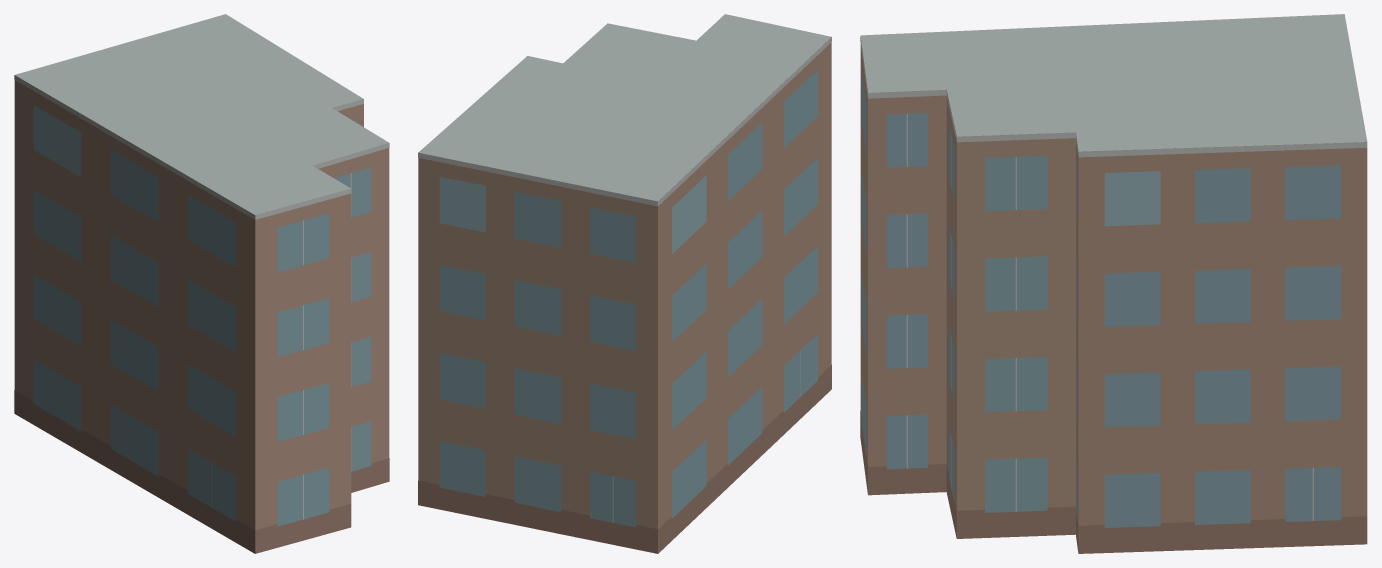
Rendered from survey-upis-32857240.glb.
The picture shows the model from 3 angles, left to right: view 1: azimuth 30°, elevation 25°; view 2: azimuth 150°, elevation 25°; view 3: azimuth 270°, elevation 25°; orthographic projection. The views are drawn at different scales.
Visible parts, largest first — view 1: survey-upis-32857240.tmp; view 2: survey-upis-32857240.tmp; view 3: survey-upis-32857240.tmp.
Part boxes in pixels (box(x1,y1,x2,y2)): survey-upis-32857240.tmp: box(14, 14, 389, 553); survey-upis-32857240.tmp: box(418, 14, 831, 553); survey-upis-32857240.tmp: box(860, 14, 1367, 553).
Bounding box in the file's own units: 12.58 × 17.13 × 19.58.
